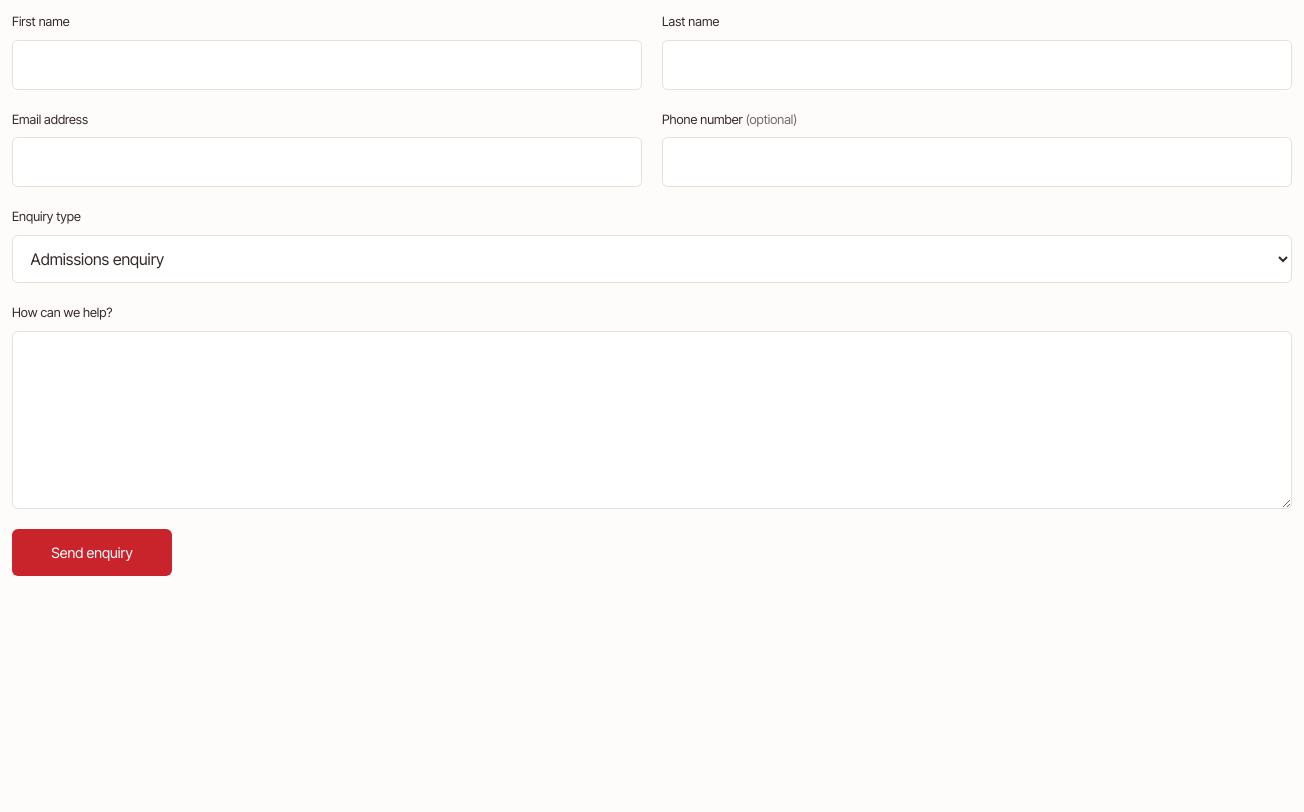
Test case: ContactForm › keeps the form populated when the API rejects a submission
Type "Temitope" into the field with id "contact-first-name" at [327, 65], box [12,40,642,90]
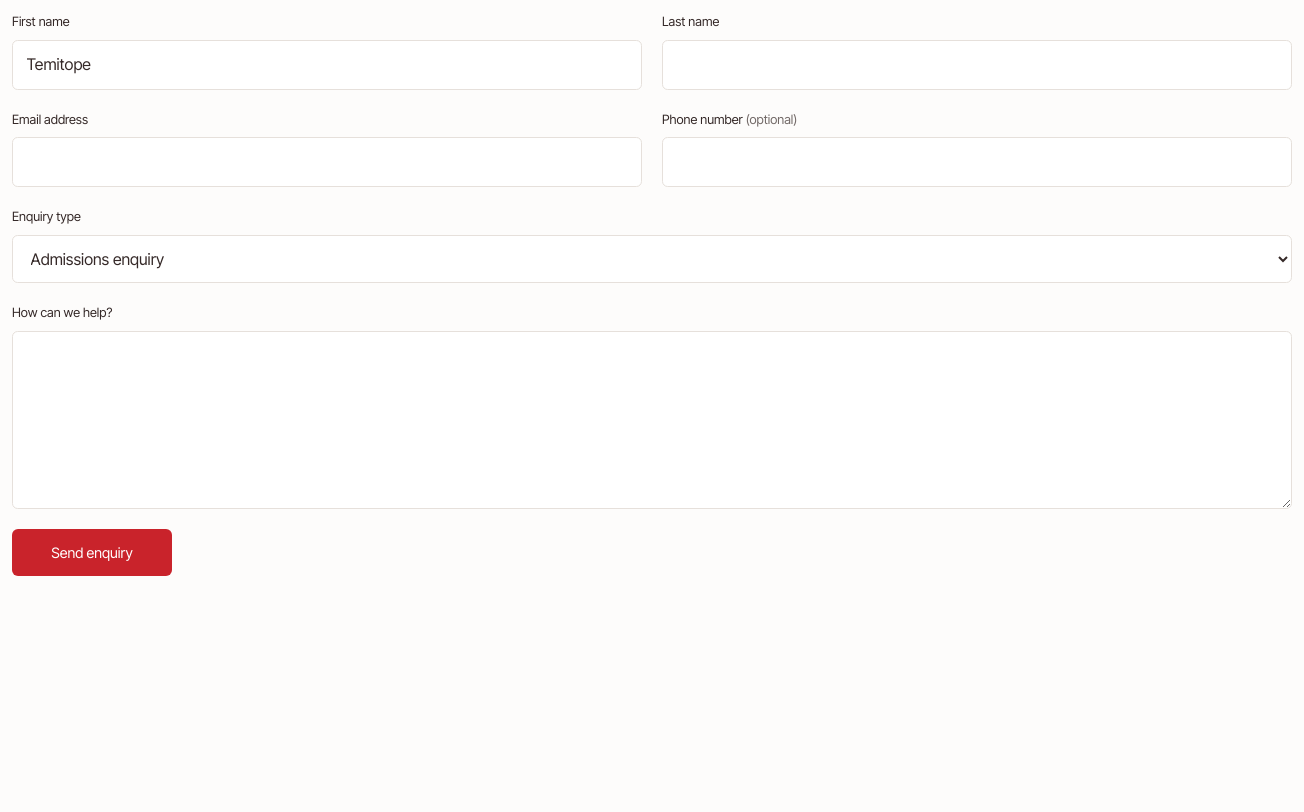
Type "Oyeyinka" into the field with id "contact-last-name" at [977, 65], box [662,40,1292,90]
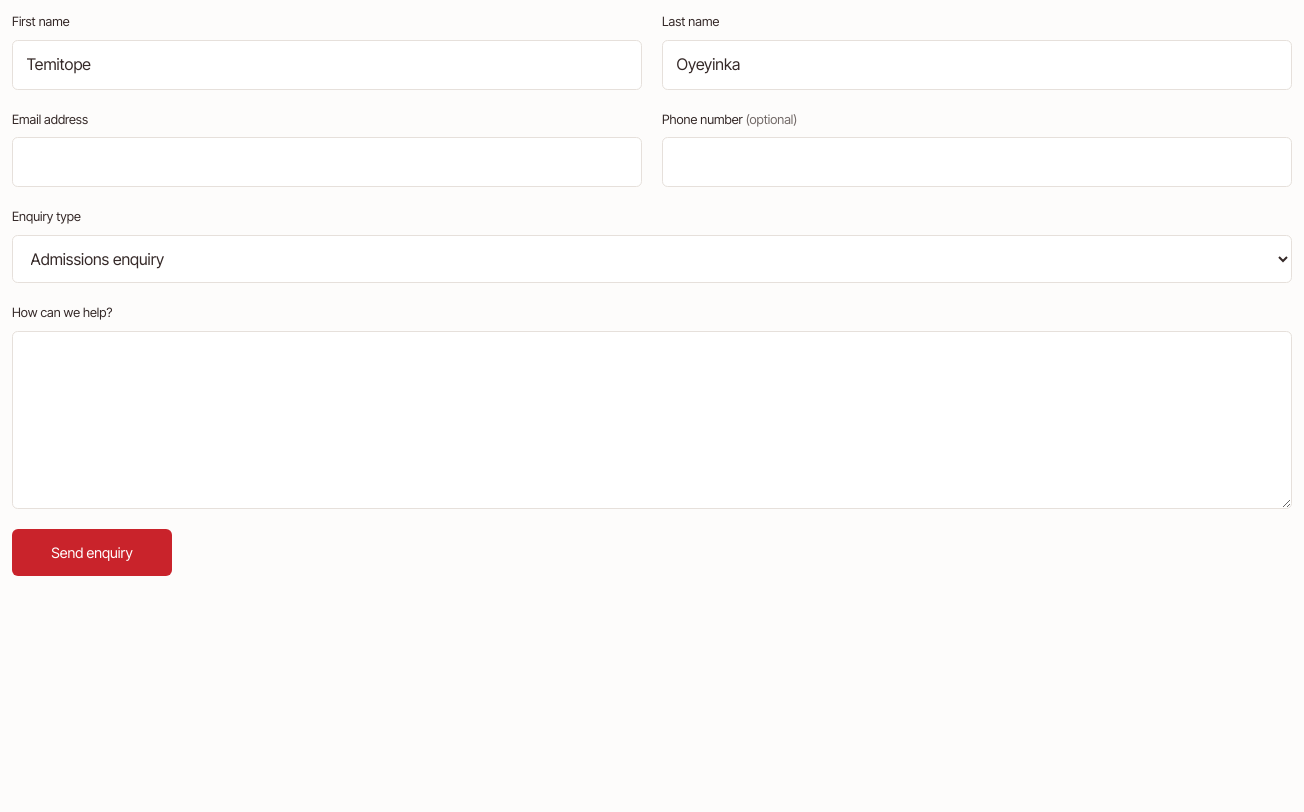
Type "temitope@example.com" into the field with id "contact-email" at [327, 162], box [12,137,642,187]
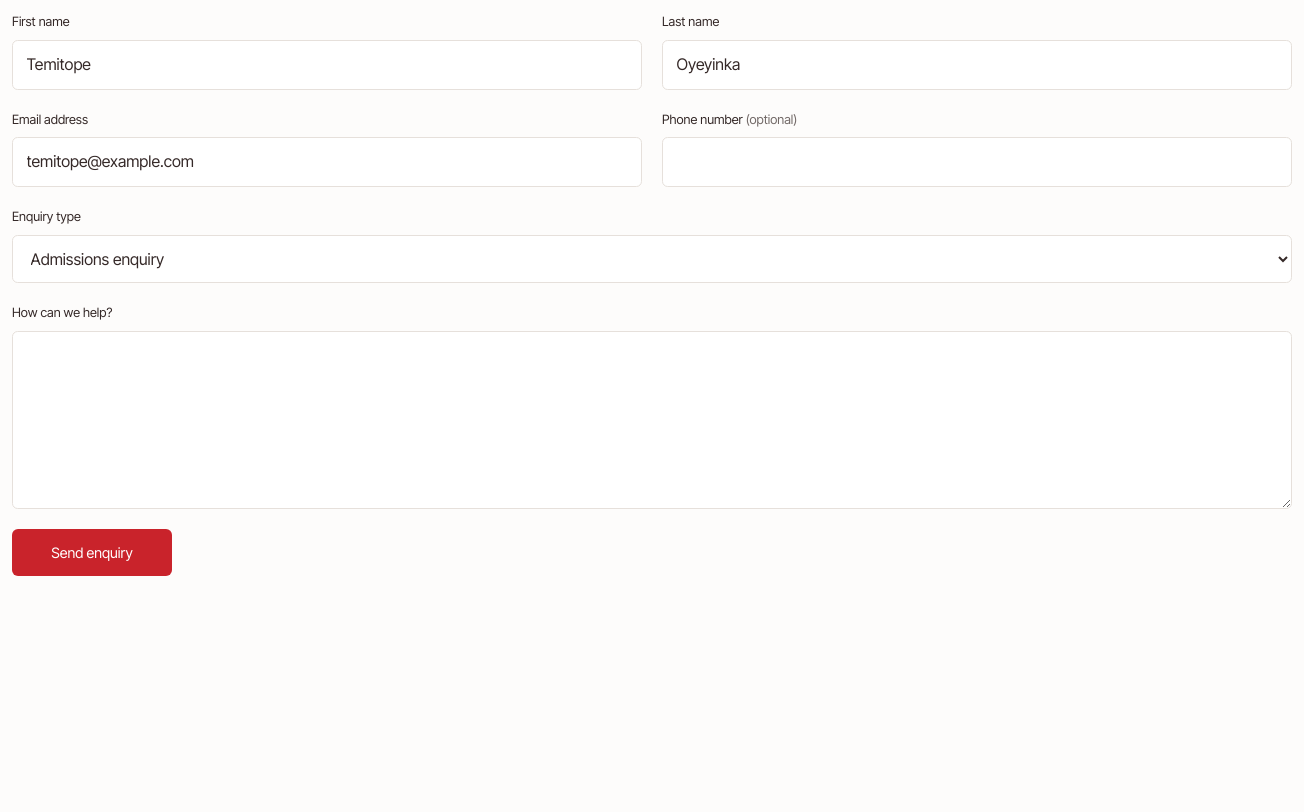
Type "I would like more information about Basic Nursing admissions." into the text box with id "contact-message" at [652, 420], box [12,331,1292,508]
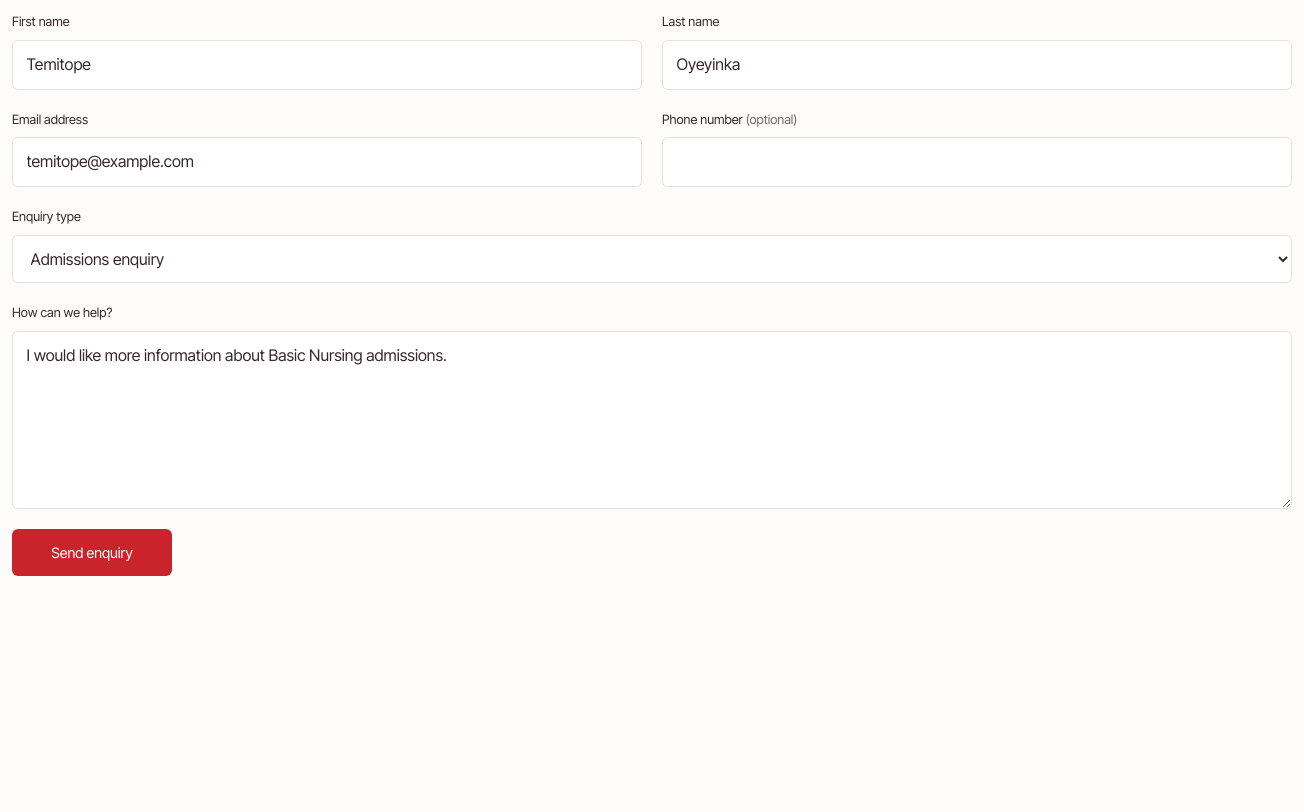
Submit the form
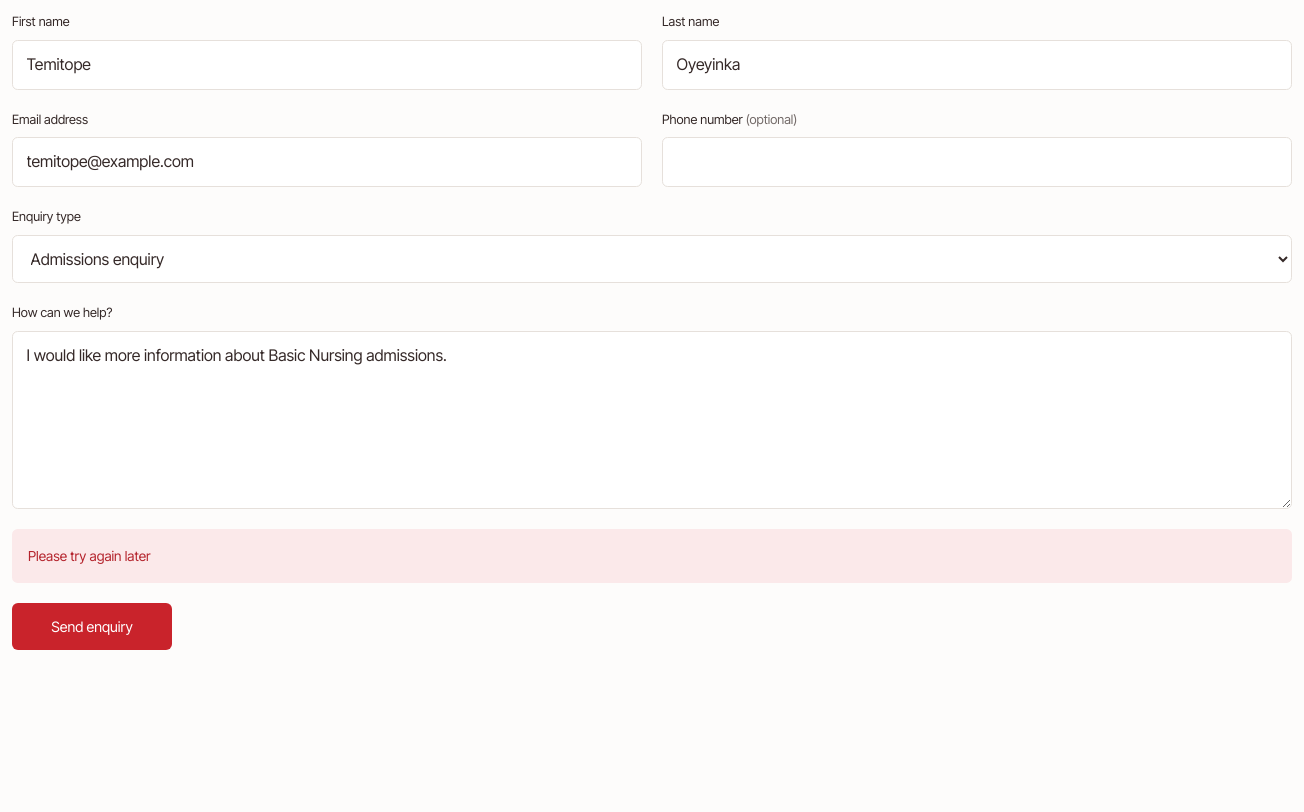
Now the message with class "form-status--error" reads "Please try again later", box [28,548,151,564]
